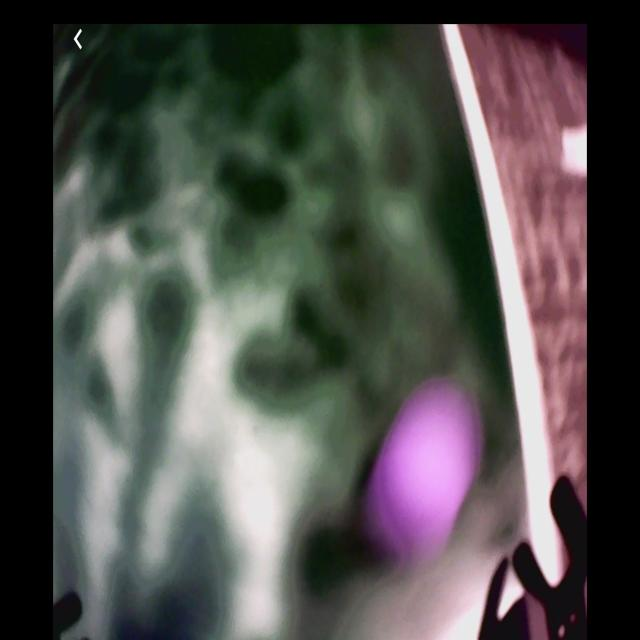ball: (383, 386, 473, 544)
